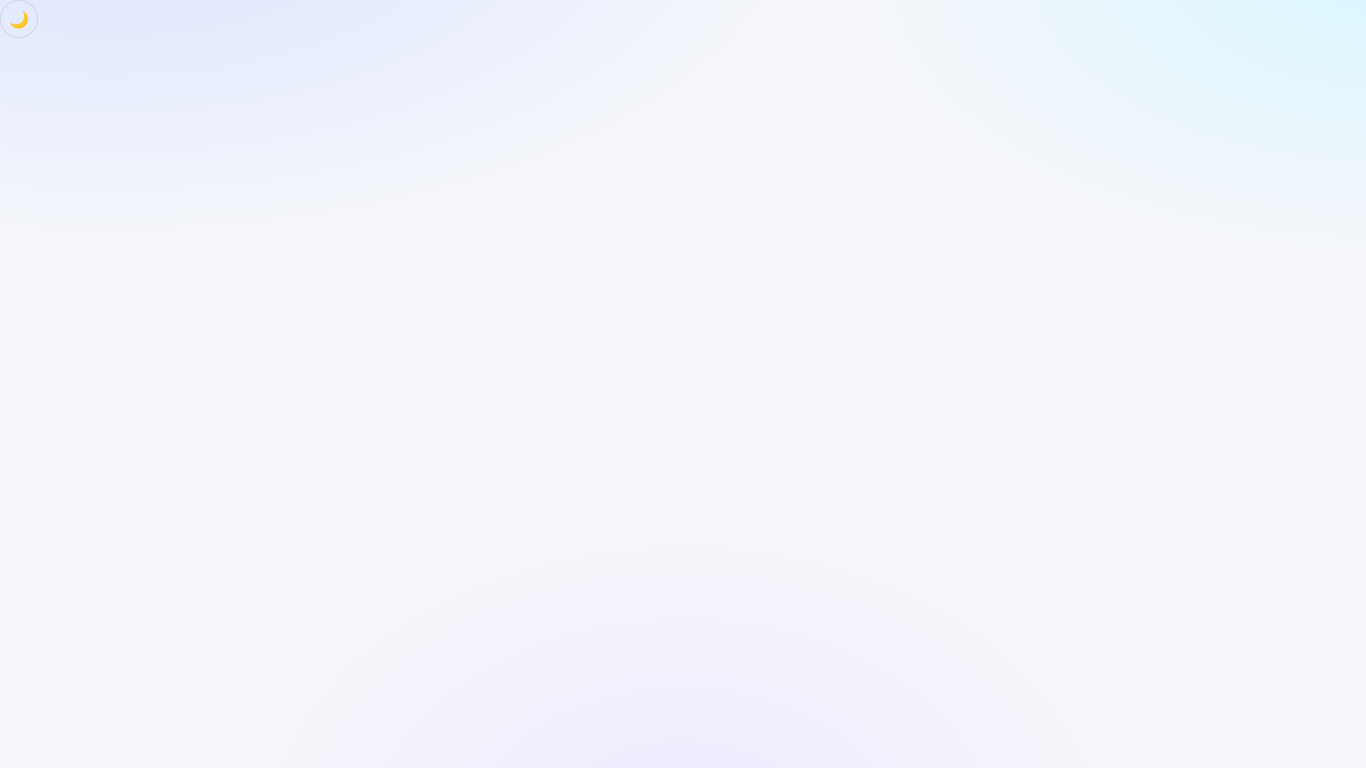
Test: ThemeToggle › по умолчанию включает светлую тему и переключает на тёмную
This screenshot has width=1366, height=768.
Click the button named "Включить тёмную тему".
click(19, 19)  # box [0,0,38,38]
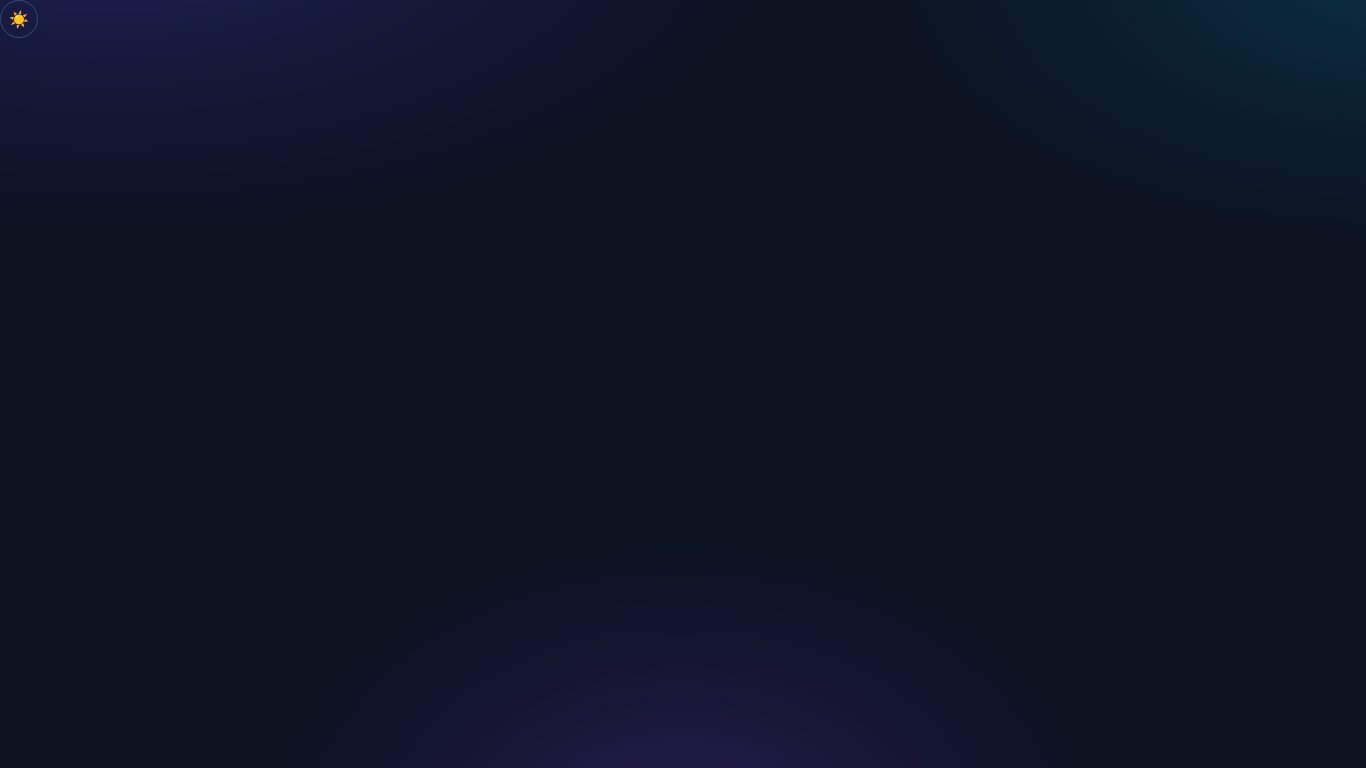
expect the button named "Включить светлую тему" is shown: met, box [0,0,38,38]
